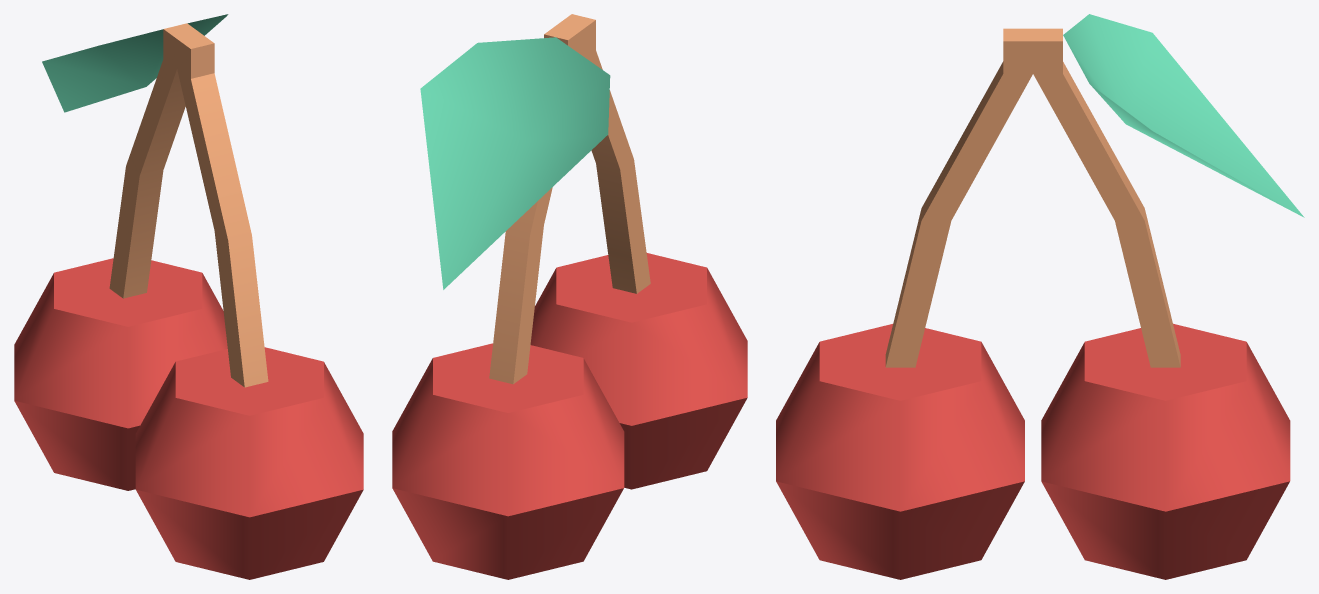
Rendered from Cherries.glb.
3 views of the same model, side by side, from view 1: azimuth 30°, elevation 25°; view 2: azimuth 150°, elevation 25°; view 3: azimuth 270°, elevation 25° (orthographic). The views are drawn at different scales.
Visible parts, largest first — view 1: Cherries; view 2: Cherries; view 3: Cherries.
Boxes of the visible parts, left/top/right/bottom form: Cherries: left=14, top=14, right=363, bottom=579; Cherries: left=392, top=14, right=747, bottom=579; Cherries: left=776, top=14, right=1304, bottom=579.
Size of the model in its own units: 0.088 by 0.1707 by 0.1619.
